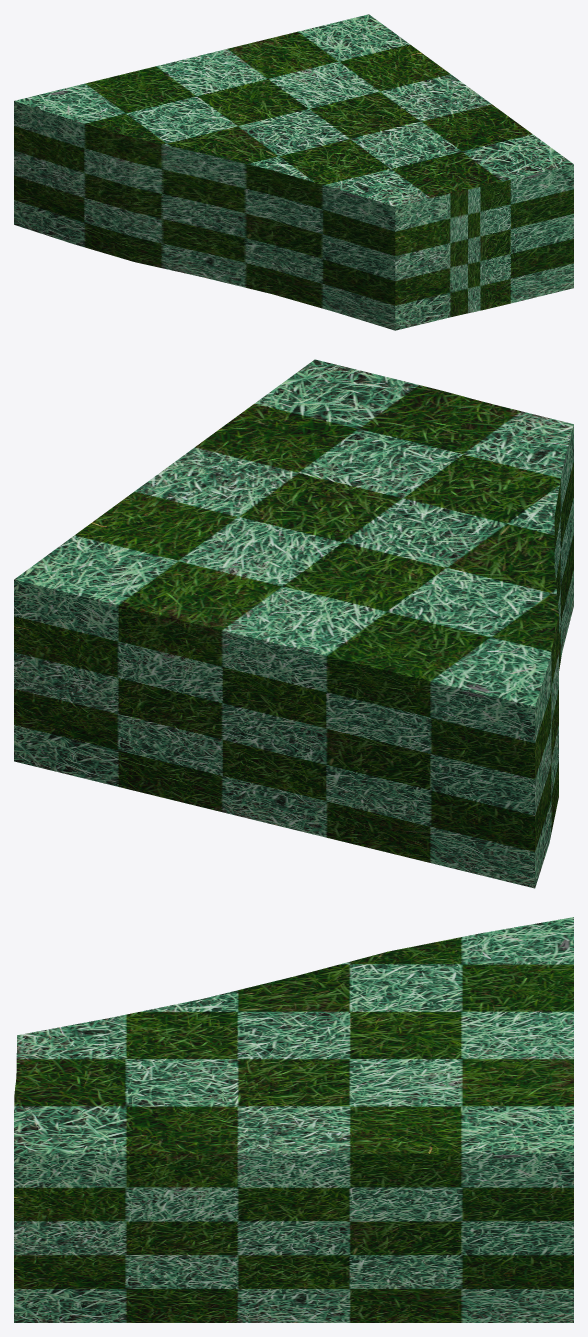
File: Floor4MiddleSlopeUPL.fbx
3 renders of one model, top to bottom at view 1: azimuth 30°, elevation 25°; view 2: azimuth 150°, elevation 25°; view 3: azimuth 270°, elevation 25°, orthographic. The views are drawn at different scales.
Visible parts, largest first — view 1: Floor.004MiddleSlopeUPL; view 2: Floor.004MiddleSlopeUPL; view 3: Floor.004MiddleSlopeUPL.
Boxes of the visible parts, <box> form: Floor.004MiddleSlopeUPL: <box>14,14,573,330</box>; Floor.004MiddleSlopeUPL: <box>14,359,573,888</box>; Floor.004MiddleSlopeUPL: <box>14,917,573,1322</box>.
Bounding box in the file's own units: 150 × 50 × 150.
